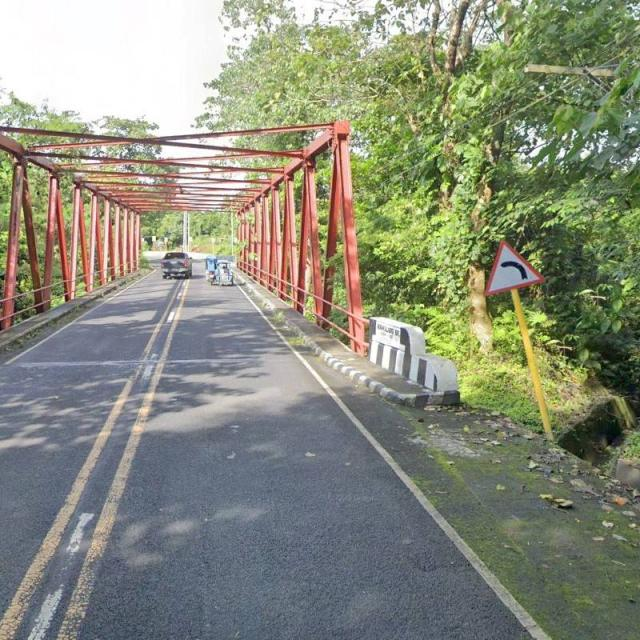warn_left_curve: (485, 240, 546, 297)
